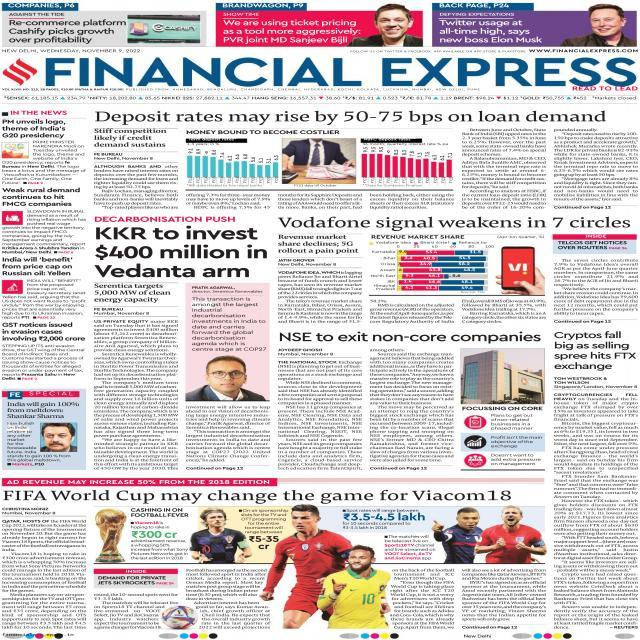Article: (1, 474, 550, 632), (92, 108, 640, 212), (92, 216, 274, 474), (273, 214, 640, 326), (274, 330, 548, 476), (550, 328, 640, 630), (3, 386, 86, 472), (0, 111, 91, 189), (0, 187, 84, 255), (0, 254, 86, 320), (0, 319, 83, 383)
Body: (552, 392, 640, 629), (92, 318, 180, 471), (276, 359, 364, 472), (369, 348, 456, 462), (1, 518, 88, 630), (460, 128, 548, 210), (552, 127, 640, 202), (552, 257, 640, 316), (185, 404, 272, 462), (460, 568, 548, 622), (277, 270, 364, 324), (388, 568, 456, 630), (0, 140, 88, 186), (93, 164, 180, 209), (1, 210, 88, 254), (1, 278, 88, 320), (92, 592, 180, 630), (1, 344, 86, 381), (185, 568, 268, 600), (130, 520, 190, 561), (192, 601, 272, 630), (462, 298, 548, 324), (369, 299, 456, 324), (240, 508, 289, 550), (341, 507, 427, 530), (368, 192, 456, 210), (276, 193, 364, 210), (185, 193, 272, 210), (382, 534, 436, 561), (6, 422, 38, 454), (7, 454, 72, 462)
Date: (0, 48, 143, 54)
Heading: (93, 225, 270, 279), (1, 488, 518, 504), (93, 110, 608, 126), (276, 216, 634, 232), (552, 330, 640, 372), (275, 332, 545, 344), (1, 320, 86, 342), (1, 187, 82, 207), (1, 256, 76, 277), (0, 118, 67, 138)
Highlights: (191, 296, 269, 354), (220, 20, 362, 44), (7, 20, 126, 44), (438, 20, 545, 44), (275, 234, 360, 256), (92, 282, 172, 304), (93, 128, 168, 150), (5, 401, 80, 419), (184, 130, 344, 136), (96, 574, 176, 586), (557, 240, 630, 252), (490, 414, 536, 431), (129, 506, 191, 518), (491, 453, 542, 466), (490, 436, 543, 448), (370, 234, 466, 240)
Image: (368, 240, 494, 294), (438, 506, 546, 563), (460, 348, 546, 404), (361, 146, 454, 187), (188, 356, 270, 402), (186, 147, 280, 187), (282, 138, 356, 184), (560, 4, 637, 47), (343, 542, 381, 628), (192, 508, 238, 563), (497, 243, 546, 294), (366, 4, 424, 46), (290, 504, 340, 550), (127, 15, 200, 42), (92, 507, 127, 563), (42, 422, 76, 452)
Name: (43, 56, 640, 88)
